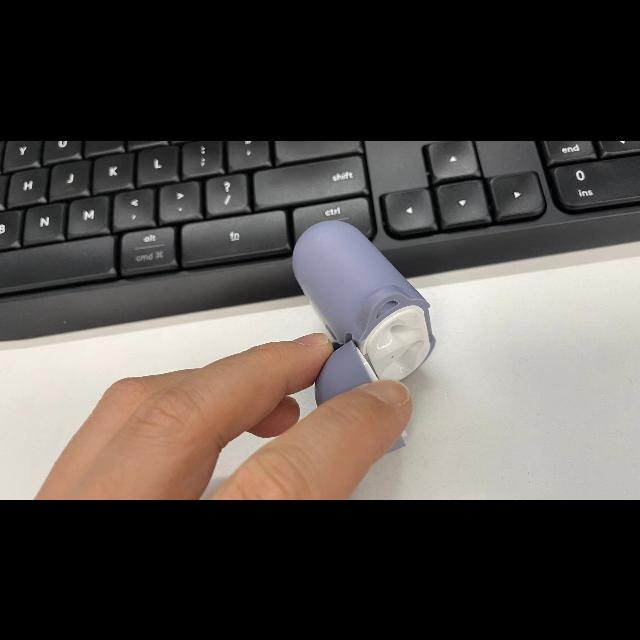airpods: (291, 219, 437, 406)
